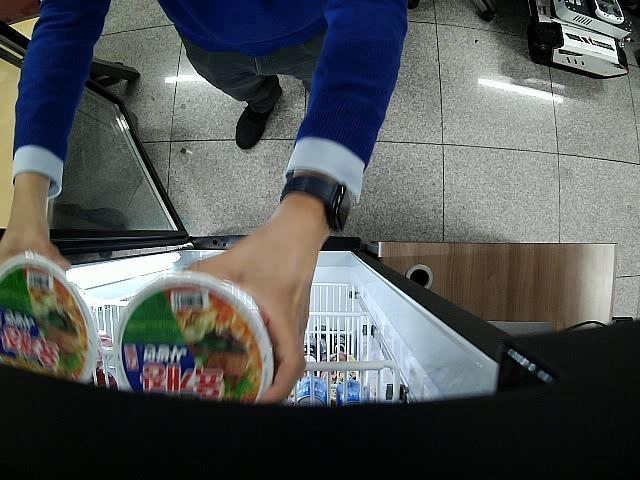09_yukGaeJang: (113, 273, 275, 401), (0, 254, 101, 382)
